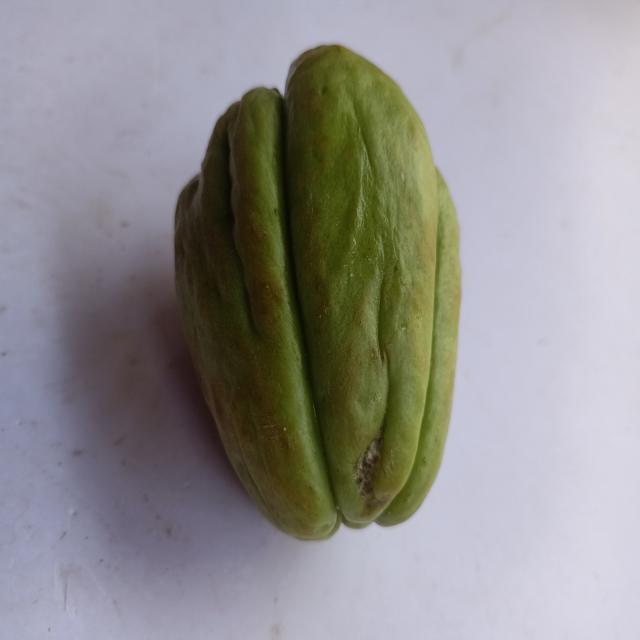Chayote: (154, 32, 482, 567)
